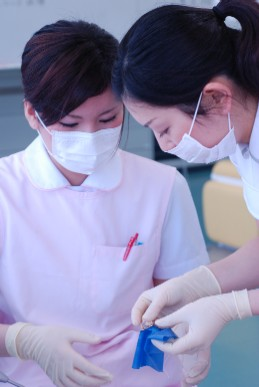mask: (49, 127, 123, 178), (166, 130, 239, 164)
